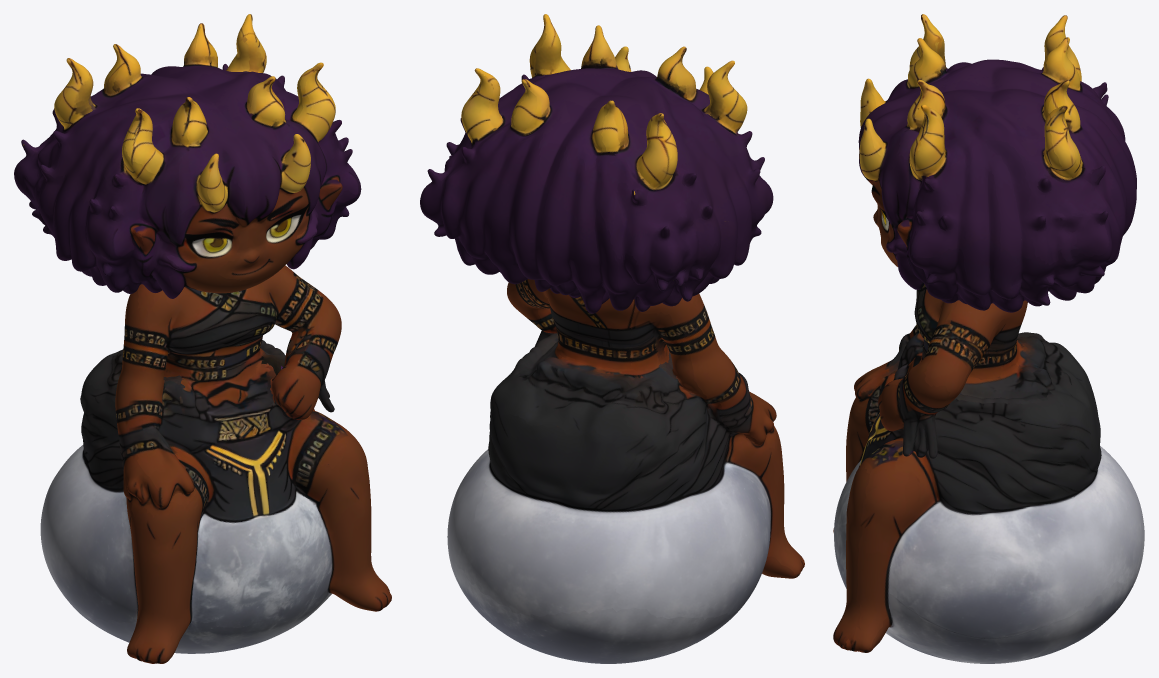
The model's file is lunarsharna.glb.
The picture shows the model from 3 angles, left to right: view 1: azimuth 30°, elevation 25°; view 2: azimuth 150°, elevation 25°; view 3: azimuth 270°, elevation 25°; orthographic projection. The views are drawn at different scales.
Parts seen in each view (by area): view 1: temp_mesh.ply; view 2: temp_mesh.ply; view 3: temp_mesh.ply.
Boxes of the visible parts, x1,y1,x2,y2 form: temp_mesh.ply: (14,14,391,663); temp_mesh.ply: (420,14,804,663); temp_mesh.ply: (833,14,1144,663).
Size of the model in its own units: 0.9826 by 1.97 by 0.9567.
Materials: 1 (1 with a texture image).
